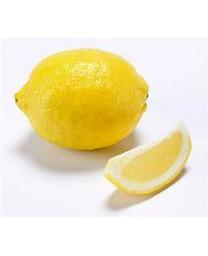lemon: (13, 47, 150, 152), (103, 124, 193, 194)
